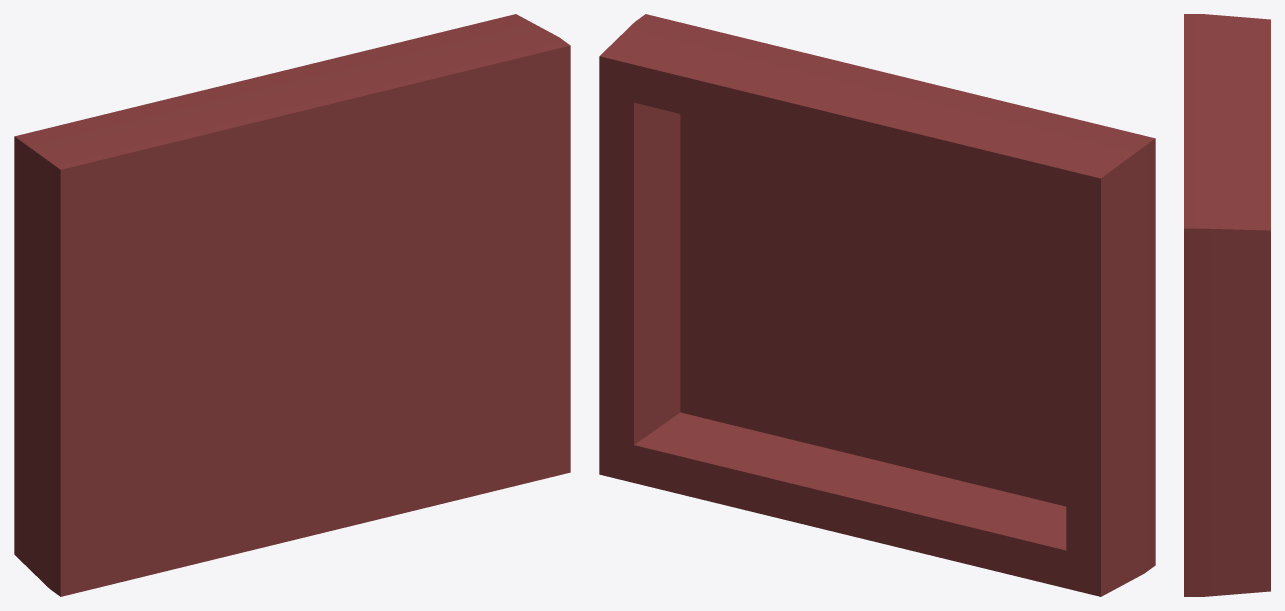
The model's file is Frame3.fbx.
The picture shows the model from 3 angles, left to right: view 1: azimuth 30°, elevation 25°; view 2: azimuth 150°, elevation 25°; view 3: azimuth 270°, elevation 25°; orthographic projection. The views are drawn at different scales.
Visible parts, largest first — view 1: Frame3; view 2: Frame3; view 3: Frame3.
Part boxes in pixels (bbox=[...]): Frame3: bbox=[14, 14, 570, 596]; Frame3: bbox=[599, 14, 1155, 596]; Frame3: bbox=[1184, 14, 1270, 596].
Bounding box in the file's own units: 3.04 × 2.44 × 0.5206.
